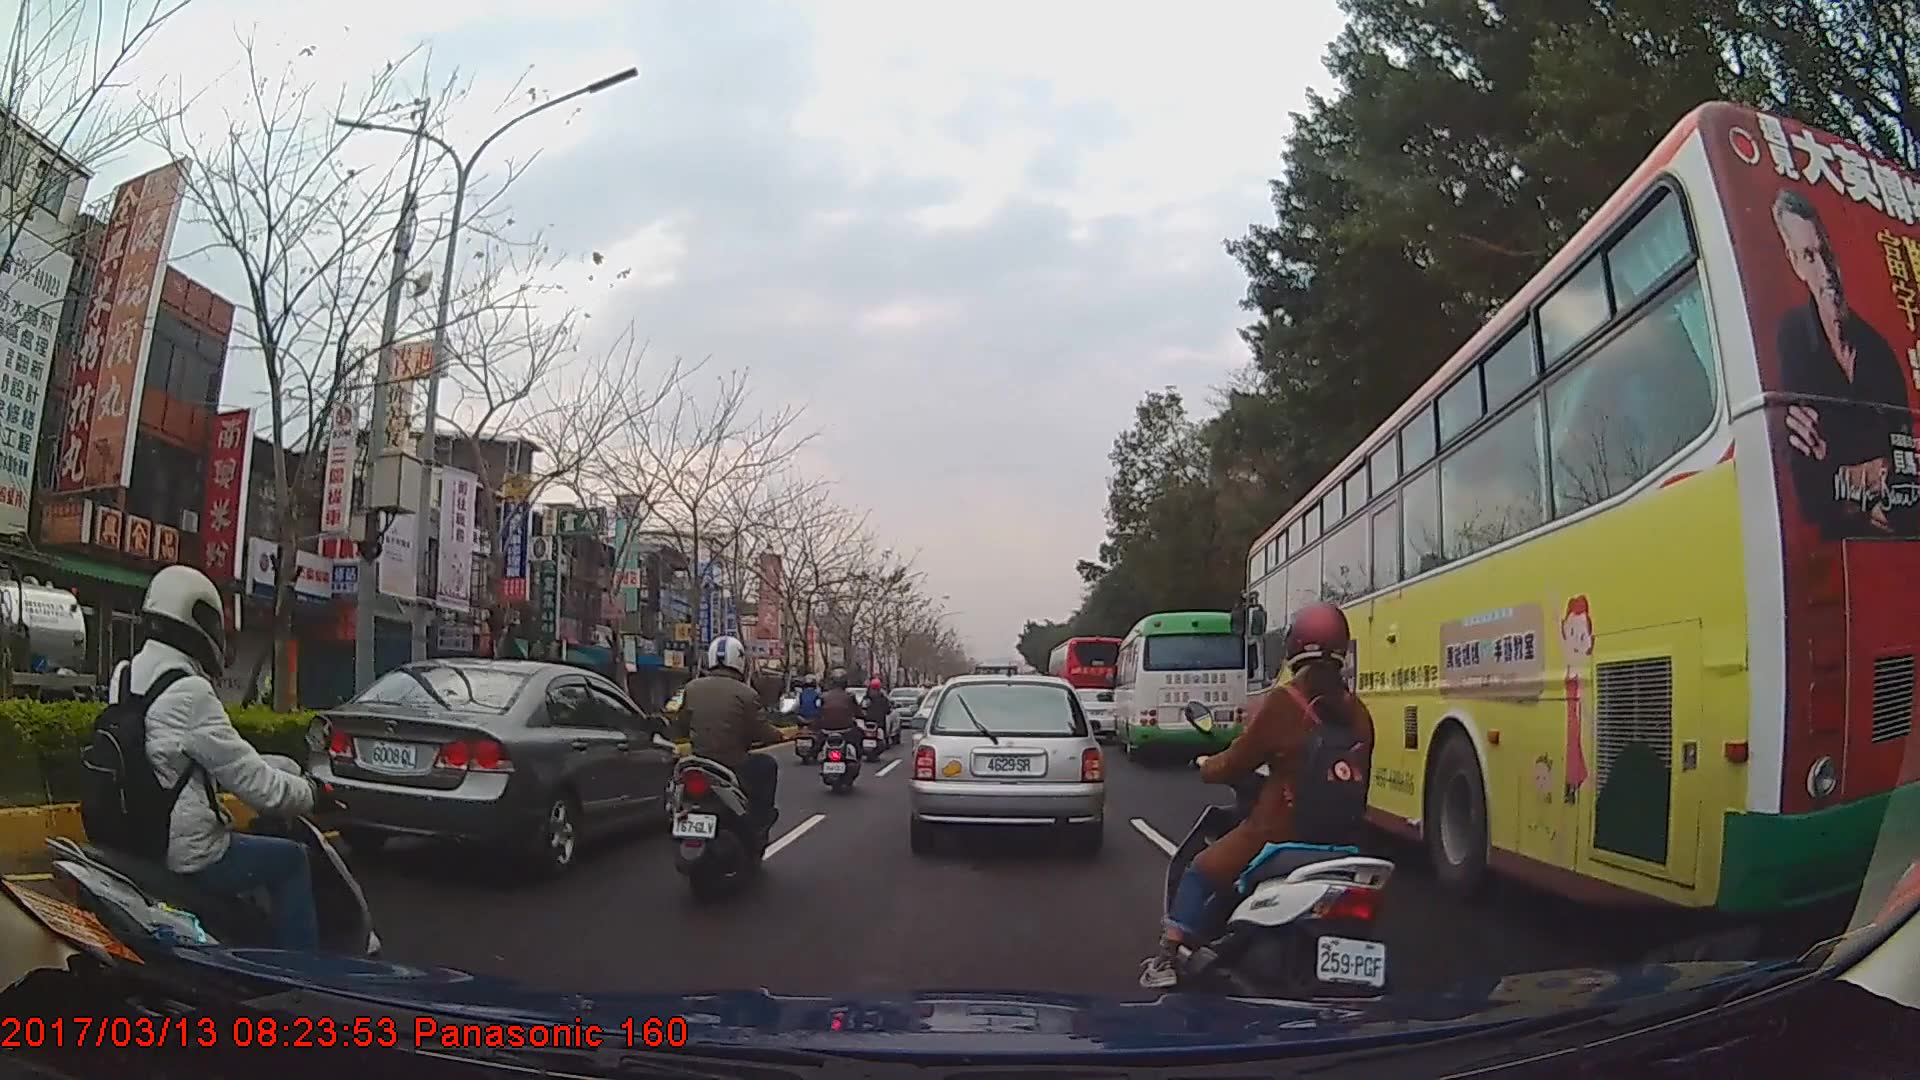rider: (38, 566, 373, 1002), (1138, 601, 1393, 1019), (668, 632, 797, 901), (816, 669, 862, 793), (857, 677, 892, 764), (793, 673, 830, 750)
vehicle: (1243, 97, 1919, 922), (305, 655, 688, 877), (912, 671, 1103, 851), (1110, 608, 1250, 761), (0, 561, 98, 757), (1046, 634, 1131, 734)
